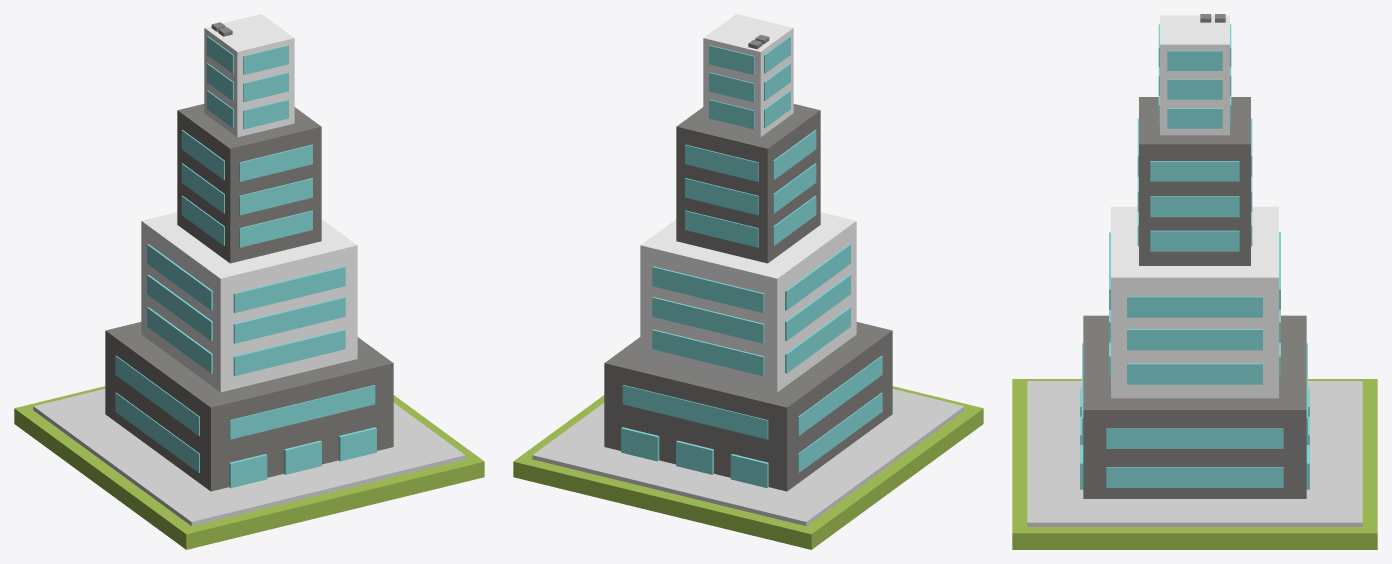
File: office-2.glb
3 renders of one model, left to right at view 1: azimuth 30°, elevation 25°; view 2: azimuth 150°, elevation 25°; view 3: azimuth 270°, elevation 25°, orthographic. The views are drawn at different scales.
Parts seen in each view (by area): view 1: Bottom_Floor, Second_Floor, Ground_Foundation, Cube, Third_Floor, Fourth_Floor, Window, Window__7_, Window__8_, Window__9_, Window_2__2_, Window_2__4_ (+15 smaller); view 2: Bottom_Floor, Second_Floor, Ground_Foundation, Cube, Third_Floor, Fourth_Floor, Window_2, Window__10_, Window__12_, Window__11_, Window_2__2_, Window_2__4_ (+15 smaller); view 3: Ground_Foundation, Bottom_Floor, Second_Floor, Cube, Third_Floor, Fourth_Floor, Window_2__1_, Window_2__3_, Window__4_, Window__5_, Window__6_, Window__22_ (+5 smaller).
Part boxes in pixels (x1=…): Bottom_Floor: x1=105, y1=322, x2=393, y2=491; Second_Floor: x1=141, y1=212, x2=357, y2=392; Ground_Foundation: x1=33, y1=389, x2=465, y2=526; Cube: x1=14, y1=386, x2=484, y2=549; Third_Floor: x1=177, y1=104, x2=321, y2=263; Fourth_Floor: x1=204, y1=14, x2=294, y2=137; Window: x1=229, y1=385, x2=375, y2=439; Window__7_: x1=233, y1=329, x2=345, y2=376; Window__8_: x1=233, y1=297, x2=345, y2=343; Window__9_: x1=233, y1=266, x2=345, y2=313; Window_2__2_: x1=115, y1=355, x2=199, y2=435; Window_2__4_: x1=115, y1=392, x2=199, y2=472; Bottom_Floor: x1=604, y1=322, x2=892, y2=491; Second_Floor: x1=640, y1=212, x2=856, y2=392; Ground_Foundation: x1=532, y1=389, x2=964, y2=526; Cube: x1=513, y1=386, x2=983, y2=549; Third_Floor: x1=676, y1=104, x2=820, y2=263; Fourth_Floor: x1=703, y1=14, x2=793, y2=137; Window_2: x1=622, y1=385, x2=768, y2=439; Window__10_: x1=652, y1=329, x2=764, y2=376; Window__12_: x1=652, y1=266, x2=764, y2=313; Window__11_: x1=652, y1=297, x2=764, y2=343; Window_2__2_: x1=798, y1=355, x2=882, y2=435; Window_2__4_: x1=798, y1=392, x2=882, y2=472; Ground_Foundation: x1=1027, y1=381, x2=1362, y2=526; Bottom_Floor: x1=1083, y1=315, x2=1306, y2=498; Second_Floor: x1=1111, y1=206, x2=1278, y2=398; Cube: x1=1012, y1=379, x2=1377, y2=549; Third_Floor: x1=1139, y1=97, x2=1250, y2=265; Fourth_Floor: x1=1160, y1=15, x2=1229, y2=135; Window_2__1_: x1=1106, y1=428, x2=1283, y2=448; Window_2__3_: x1=1106, y1=467, x2=1283, y2=487; Window__4_: x1=1127, y1=363, x2=1262, y2=384; Window__5_: x1=1127, y1=329, x2=1262, y2=350; Window__6_: x1=1127, y1=296, x2=1262, y2=317; Window__22_: x1=1150, y1=230, x2=1239, y2=251.
Bounding box in the file's own units: 1 × 1.35 × 1.
